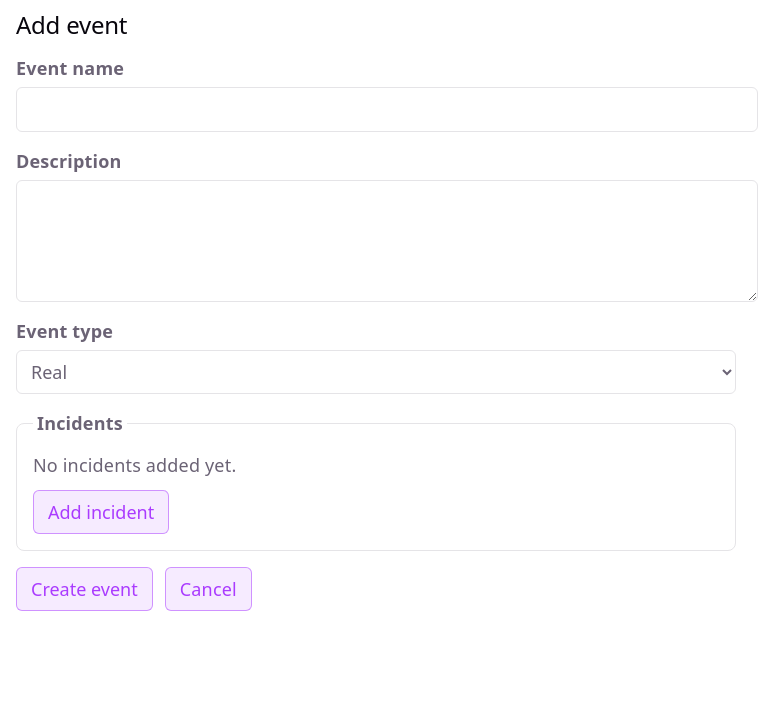
Test: EventForm › adds and removes incident rows
Click the button "Add incident" at (101, 512), box [33, 490, 169, 534]
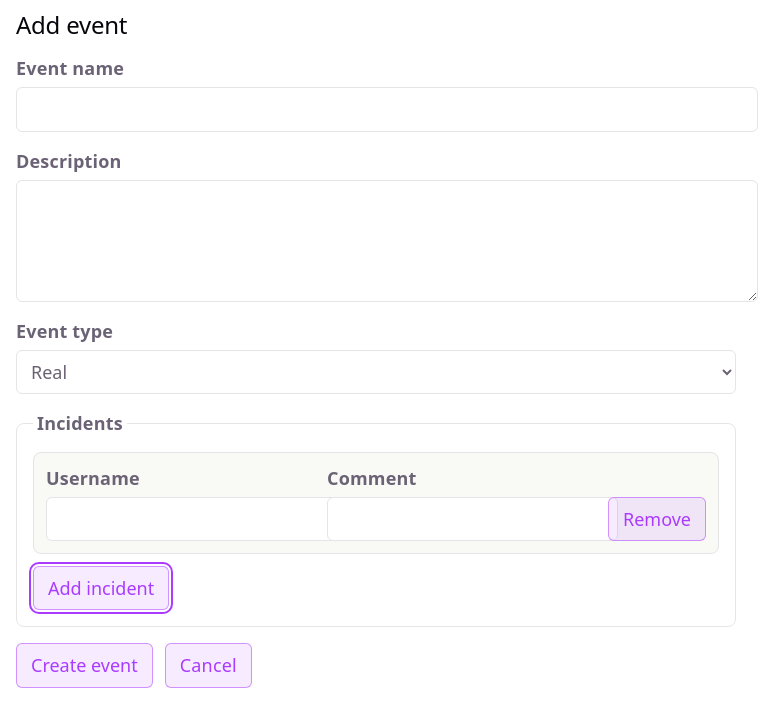
Result: the field labelled "Username" is shown at [46, 497, 337, 541]
Result: the field labelled "Comment" is shown at [327, 497, 618, 541]
Click the button "Remove" at (657, 519), box [608, 497, 706, 541]
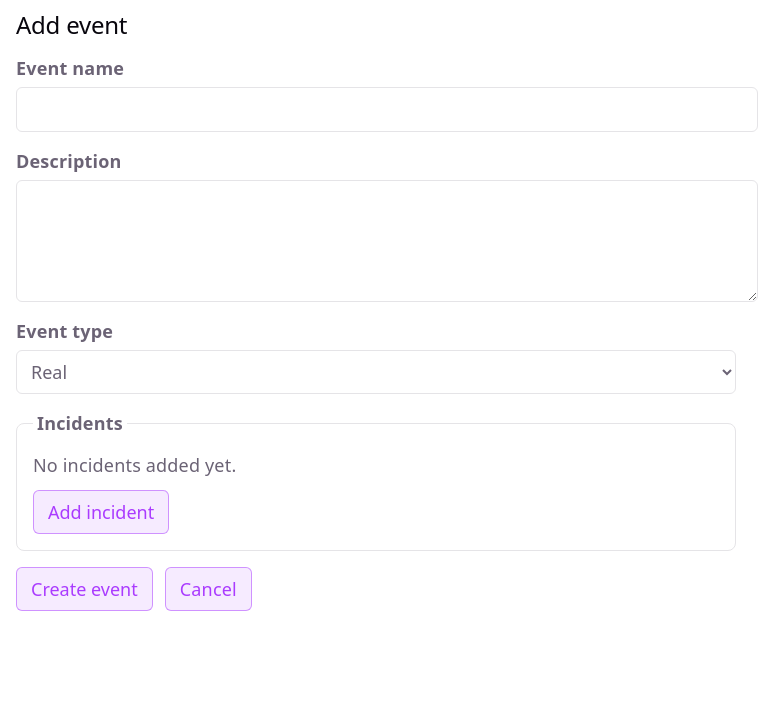
Result: the text "No incidents added yet." is shown at [33, 453, 236, 477]
